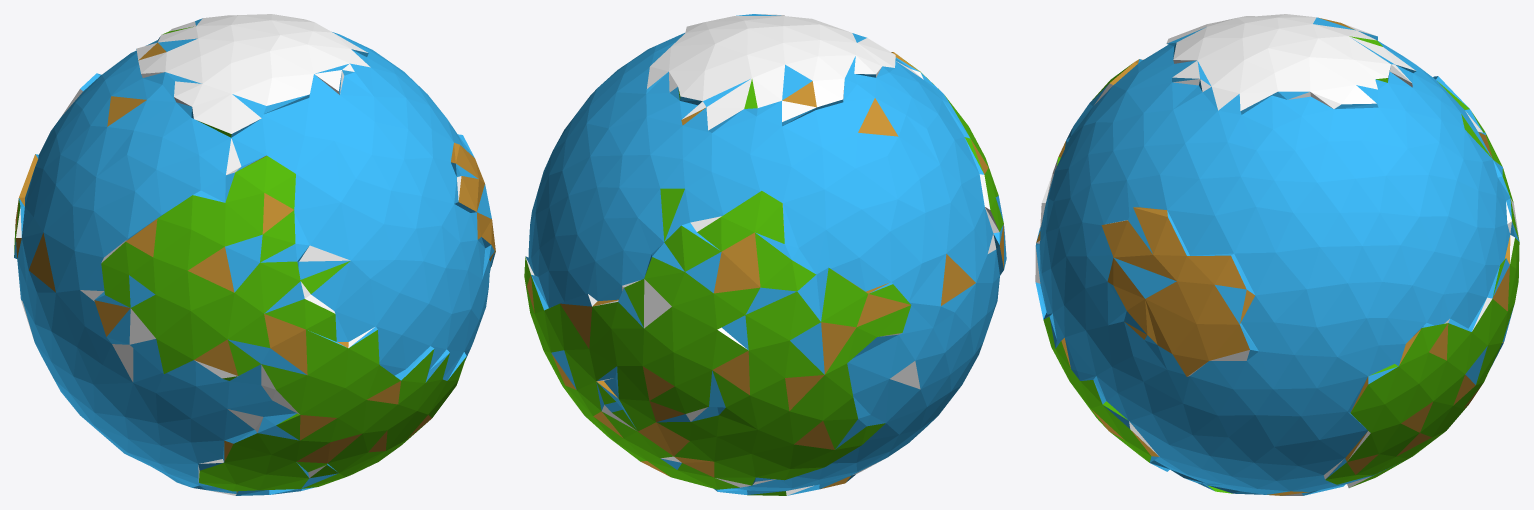
The model's file is earth 05.fbx.
The picture shows the model from 3 angles, left to right: view 1: azimuth 30°, elevation 25°; view 2: azimuth 150°, elevation 25°; view 3: azimuth 270°, elevation 25°; orthographic projection.
Parts seen in each view (by area): view 1: Sphere; view 2: Sphere; view 3: Sphere.
Part boxes in pixels (x1=…): Sphere: x1=14, y1=14, x2=495, y2=495; Sphere: x1=524, y1=14, x2=1006, y2=495; Sphere: x1=1035, y1=14, x2=1519, y2=495.
Bounding box in the file's own units: 401 × 406 × 406.
